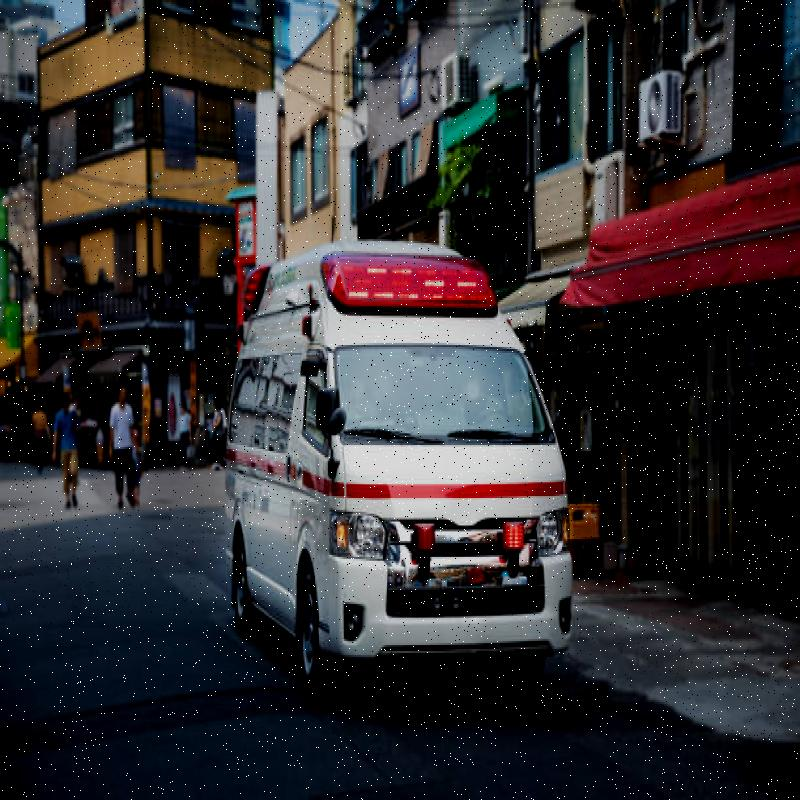AmbulanceSiren: (314, 232, 481, 325)
